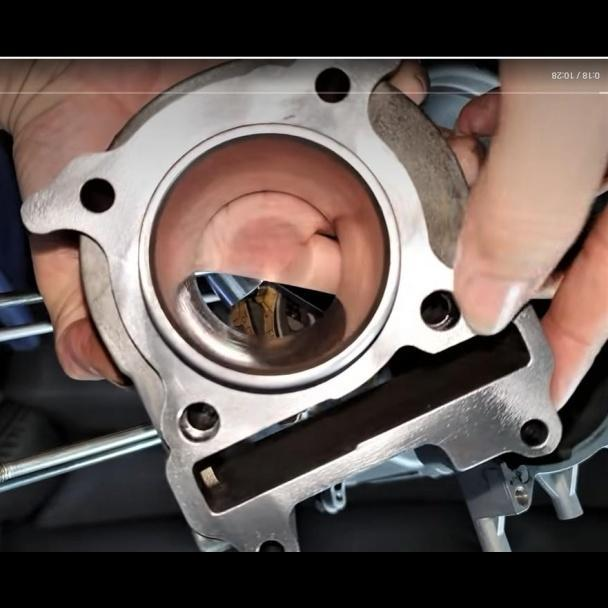hole: (416, 287, 465, 332), (175, 398, 220, 443), (73, 174, 116, 215), (310, 64, 351, 105)
